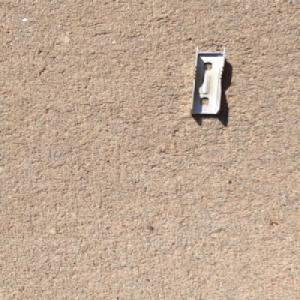ClampPart: (186, 44, 229, 117)
